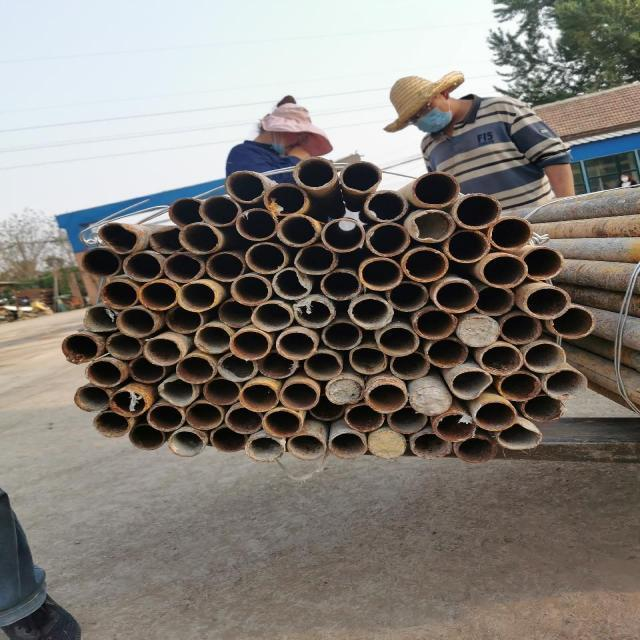pipe: (410, 172, 460, 206), (444, 228, 490, 264), (454, 194, 502, 228), (480, 254, 528, 288), (522, 285, 570, 319), (401, 248, 448, 282), (548, 305, 595, 339), (487, 216, 532, 250), (362, 189, 408, 222), (410, 209, 456, 242), (357, 257, 403, 290), (292, 156, 336, 190), (320, 218, 364, 252), (366, 222, 410, 256), (262, 182, 307, 215), (411, 307, 457, 339), (223, 170, 266, 204), (275, 213, 318, 247), (432, 280, 477, 312), (520, 246, 562, 280), (339, 160, 382, 193), (234, 208, 278, 240), (243, 242, 287, 274), (348, 296, 392, 328), (456, 314, 500, 346), (522, 341, 566, 373), (478, 344, 524, 374), (249, 300, 292, 332), (498, 312, 541, 344), (364, 381, 407, 413), (543, 368, 587, 399), (198, 194, 240, 226), (178, 222, 220, 254), (230, 274, 272, 306), (386, 280, 428, 312), (472, 284, 514, 316), (449, 368, 492, 399), (376, 326, 420, 356), (99, 278, 140, 310), (115, 306, 156, 338), (121, 251, 163, 282), (294, 244, 336, 275), (494, 422, 542, 449), (272, 266, 310, 300), (162, 253, 205, 283), (425, 337, 468, 367), (408, 384, 451, 414), (432, 412, 475, 442), (474, 400, 517, 430), (98, 222, 138, 254), (320, 268, 360, 300), (136, 280, 178, 310), (292, 298, 334, 328), (142, 336, 184, 366), (191, 324, 233, 354), (228, 330, 270, 360), (274, 330, 316, 360), (320, 320, 362, 350), (388, 350, 430, 380), (343, 403, 385, 433), (497, 372, 541, 400), (520, 394, 564, 422), (238, 382, 279, 412), (278, 381, 320, 410), (260, 408, 302, 437), (80, 247, 120, 277), (204, 252, 244, 282), (176, 282, 216, 312), (164, 304, 204, 334), (216, 352, 256, 382), (157, 377, 197, 407), (183, 400, 223, 430), (366, 428, 406, 458), (454, 435, 496, 463), (167, 197, 206, 227), (61, 333, 100, 363), (175, 354, 214, 384), (348, 345, 387, 375), (202, 376, 241, 406), (302, 351, 342, 380), (323, 376, 364, 404), (216, 298, 254, 328), (258, 349, 297, 378), (145, 404, 185, 432), (224, 406, 264, 434), (386, 405, 426, 433), (326, 431, 366, 459), (148, 226, 187, 254), (84, 359, 123, 387), (108, 388, 147, 416), (209, 424, 248, 452), (104, 332, 144, 359), (72, 385, 112, 412), (166, 430, 206, 457), (244, 435, 284, 462), (286, 433, 326, 460), (412, 432, 452, 459), (126, 354, 164, 382), (128, 422, 165, 450), (83, 304, 119, 332), (308, 394, 345, 421), (92, 411, 130, 436)
